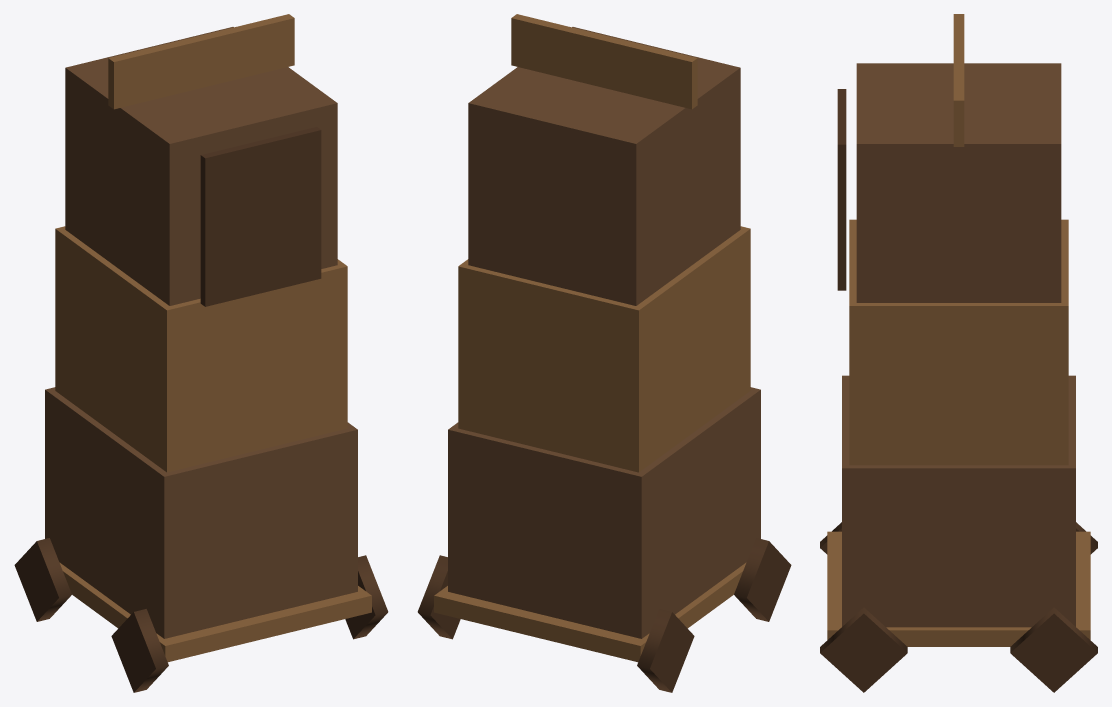
File: unit_mil_siege_tower_a03_lod2.glb
3 renders of one model, left to right at view 1: azimuth 30°, elevation 25°; view 2: azimuth 150°, elevation 25°; view 3: azimuth 270°, elevation 25°, orthographic.
Visible parts, largest first — view 1: body, bridge, wheel_2, wheel_0, wheel_3; view 2: body, wheel_0, wheel_2, wheel_1; view 3: body, wheel_1, wheel_3, bridge.
Boxes of the visible parts, x1,y1,x2,y2 form: body: (45,14,371,662); bridge: (200,127,321,306); wheel_2: (111,609,168,692); wheel_0: (14,538,71,621); wheel_3: (345,555,388,639); body: (434,14,760,662); wheel_0: (637,609,694,692); wheel_2: (734,538,791,621); wheel_1: (417,555,460,639); body: (827,14,1090,646); wheel_1: (1010,607,1097,692); wheel_3: (820,607,907,692); bridge: (837,89,846,290).
Bounding box in the file's own units: 3.6 × 8.75 × 3.8.
